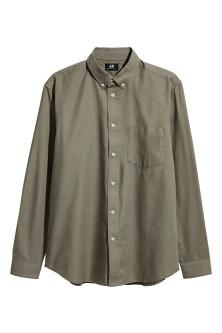teeshirt: (10, 42, 217, 297)
